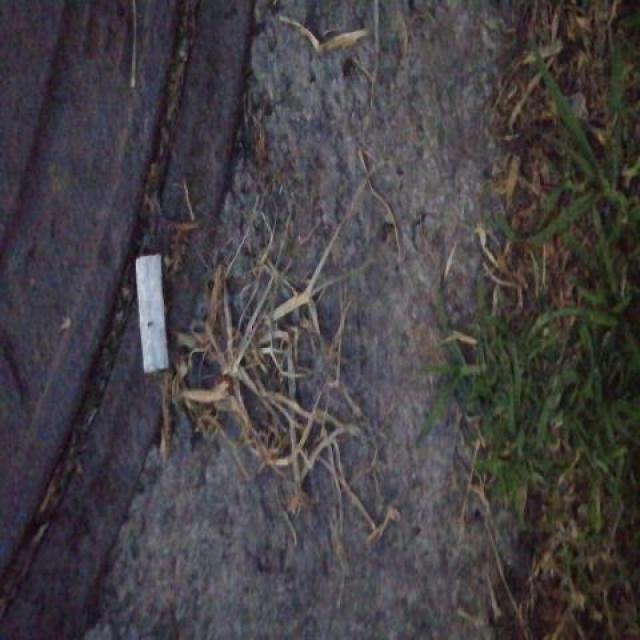non-organic waste: (131, 248, 172, 376)
